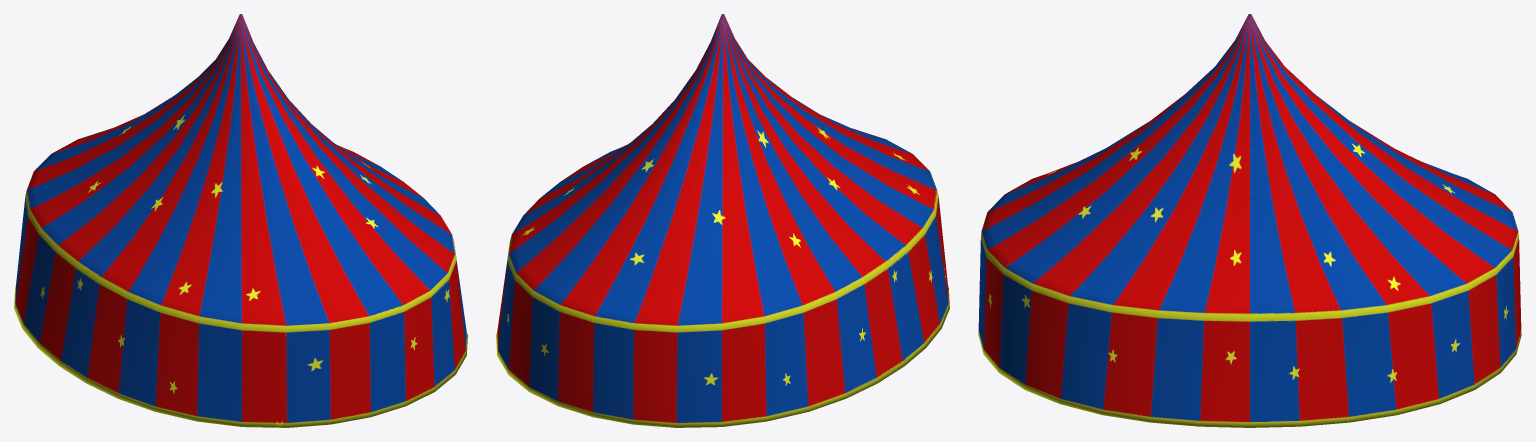
The model's file is BackgroundTent.glb.
3 renders of one model, left to right at view 1: azimuth 30°, elevation 25°; view 2: azimuth 150°, elevation 25°; view 3: azimuth 270°, elevation 25°, orthographic. The views are drawn at different scales.
Parts seen in each view (by area): view 1: Cylinder; view 2: Cylinder; view 3: Cylinder.
Part boxes in pixels (x1,y1,x2,y2): Cylinder: (14,14,467,427); Cylinder: (496,14,949,427); Cylinder: (978,14,1521,427).
Bounding box in the file's own units: 166 × 134 × 206.
2 materials, 2 textured.
